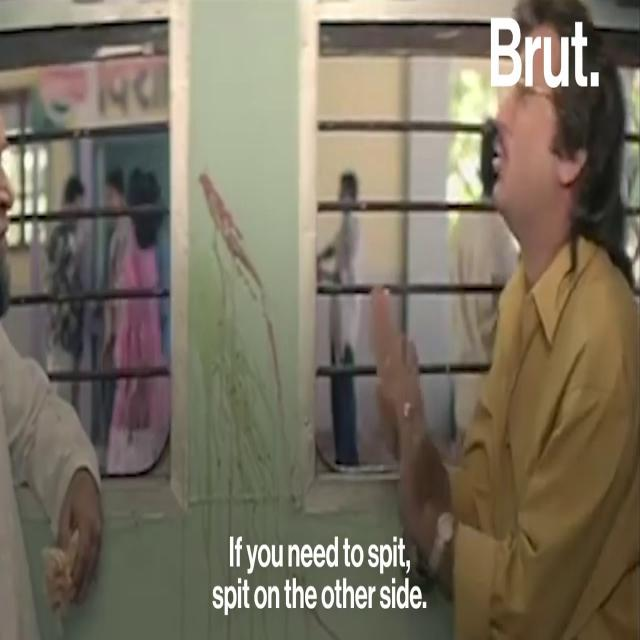spit: (176, 153, 310, 521)
